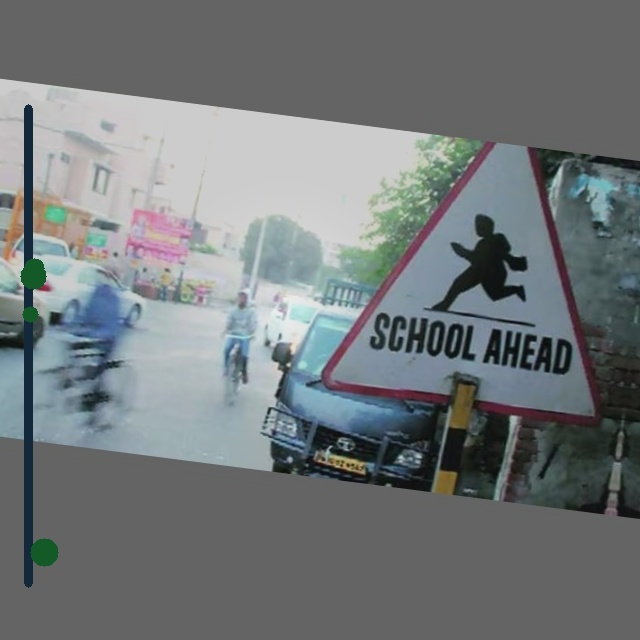School_Ahead: (351, 154, 613, 400)
